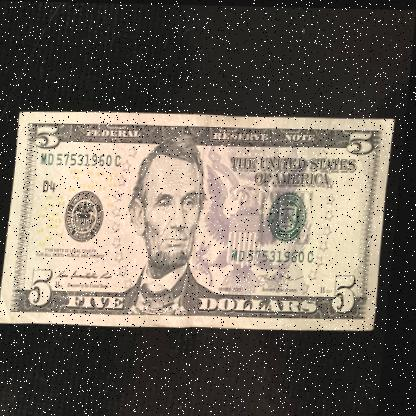five-front: (2, 108, 397, 330)
